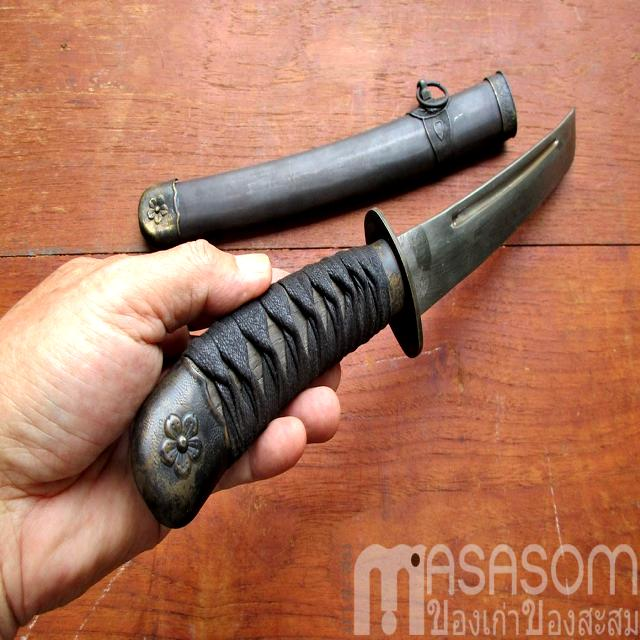short sword: (0, 80, 587, 568)
